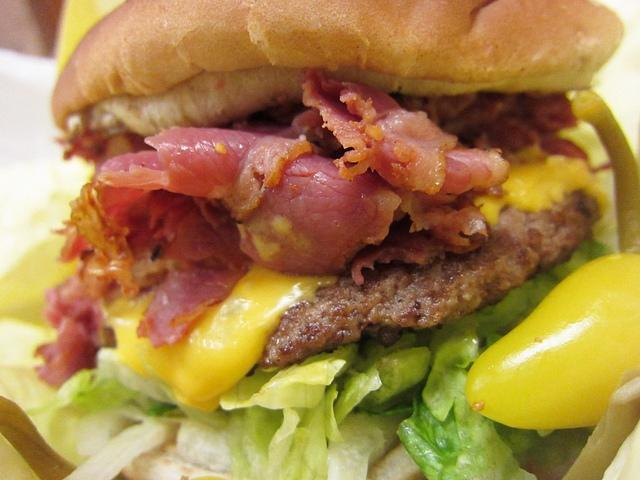lettuce: (422, 313, 537, 480), (477, 239, 618, 340), (220, 344, 358, 410), (333, 328, 417, 426), (395, 364, 462, 480), (60, 420, 182, 478), (267, 389, 328, 480), (364, 346, 432, 406), (54, 369, 138, 413), (140, 400, 186, 419)
